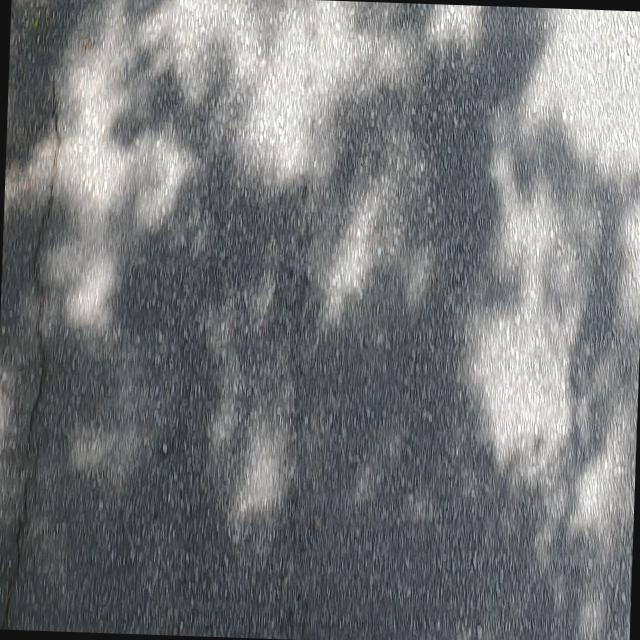Retak-Memanjang: (0, 75, 64, 626)
